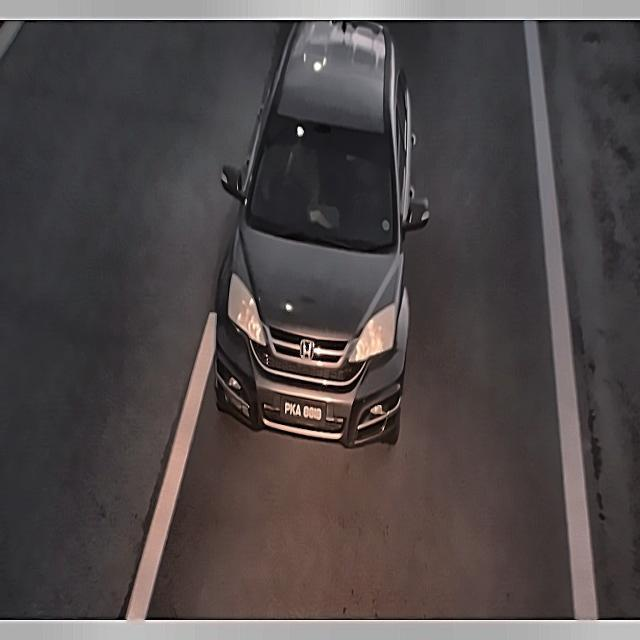car: (275, 392, 331, 430)
